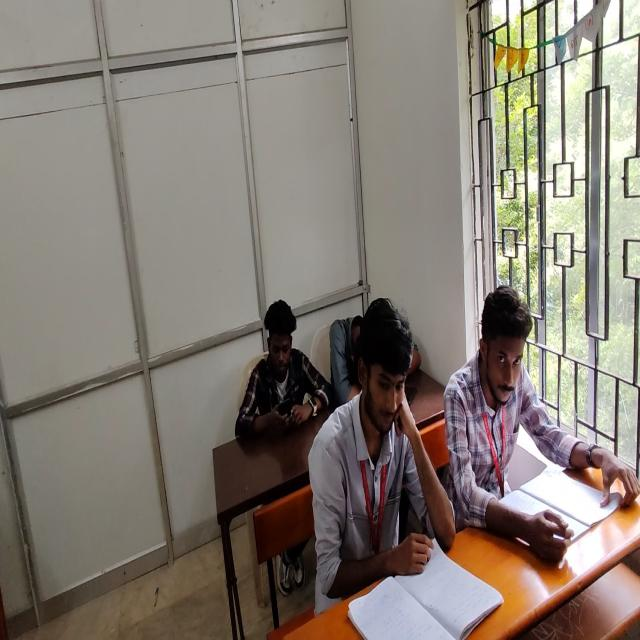listening: (445, 286, 640, 560)
reading: (308, 295, 446, 617)
sleeping: (327, 314, 412, 410)
using_mobile: (235, 296, 335, 600)
